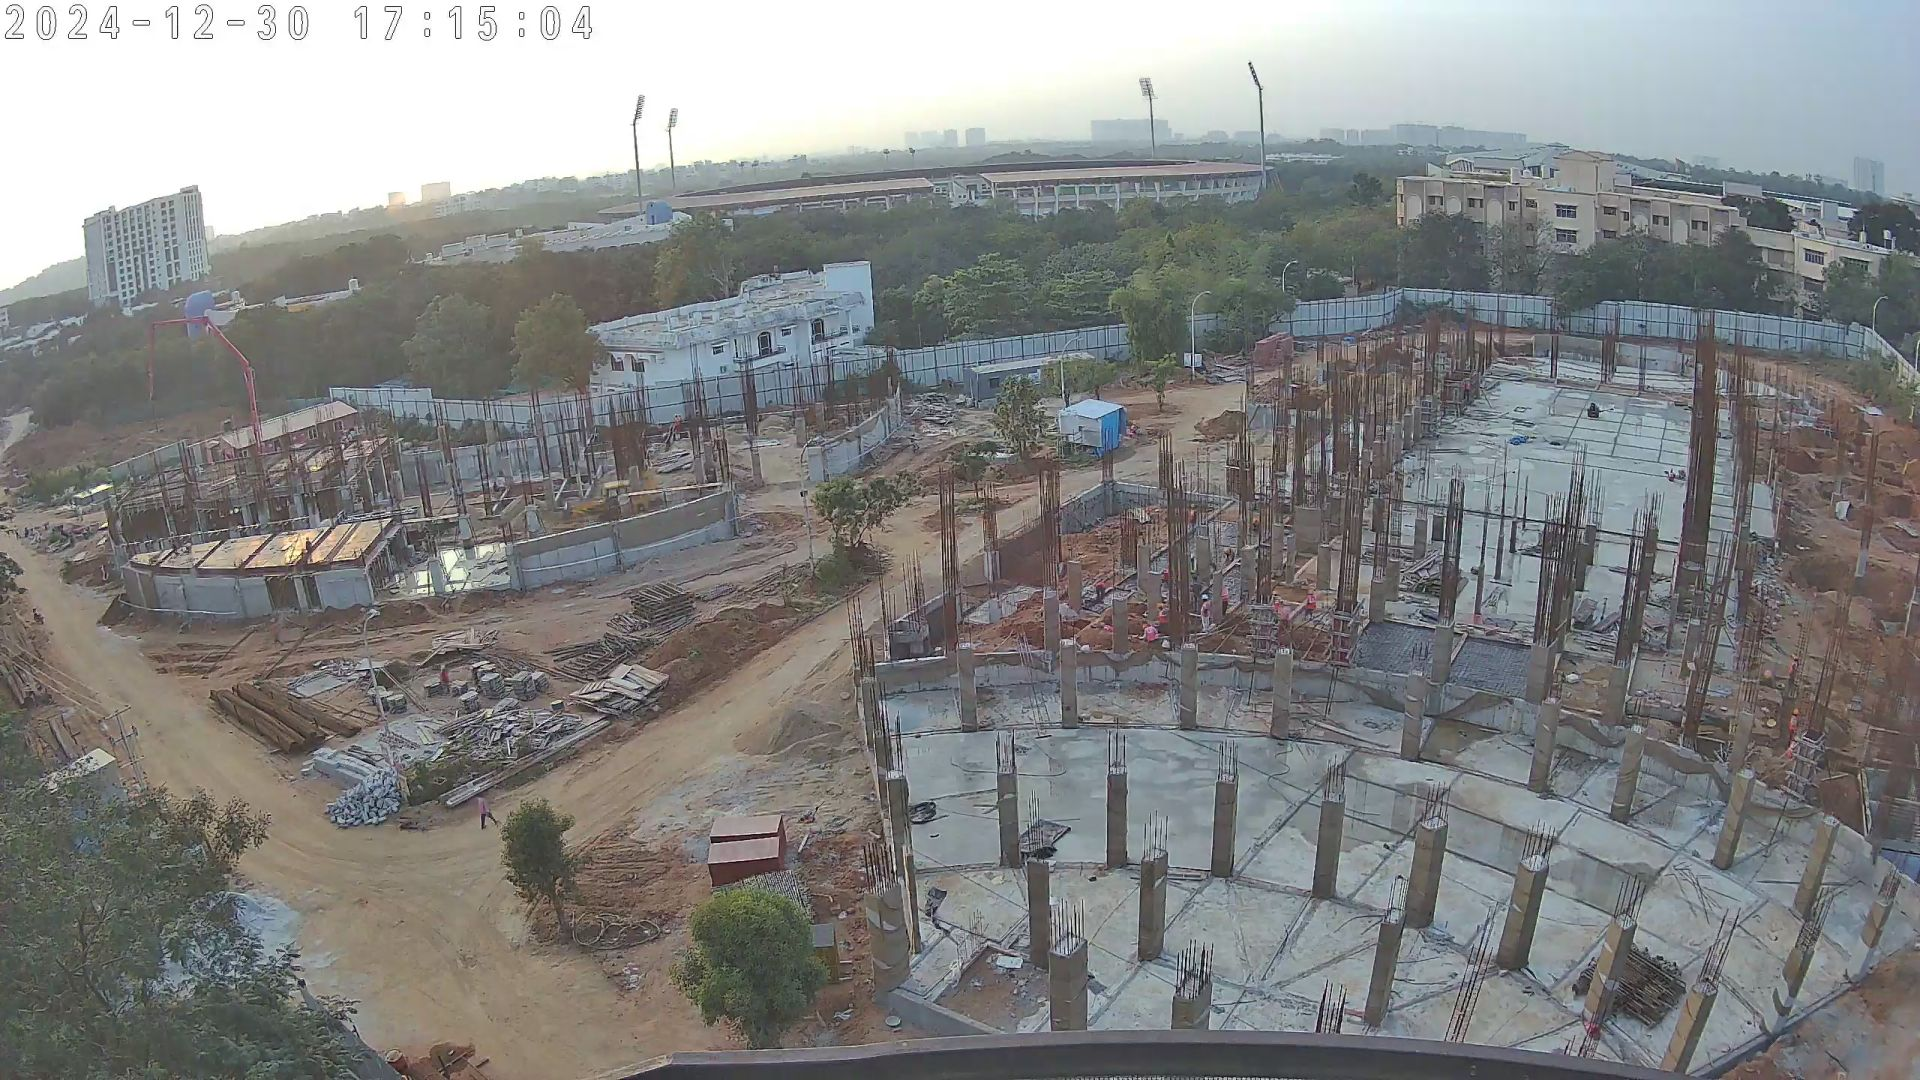bike: (29, 608, 49, 626)
worker: (472, 790, 502, 830), (1785, 652, 1803, 698), (1302, 585, 1320, 624), (1197, 588, 1212, 633), (1268, 589, 1287, 624), (1140, 619, 1160, 651), (1787, 707, 1802, 746), (438, 660, 454, 696), (1219, 579, 1232, 618), (1154, 600, 1172, 627), (1782, 741, 1802, 764), (1221, 541, 1239, 566), (1126, 417, 1145, 438), (1094, 579, 1106, 605), (673, 411, 684, 437), (1159, 565, 1171, 587), (1663, 466, 1677, 484), (1464, 377, 1473, 402), (1100, 621, 1118, 632)
